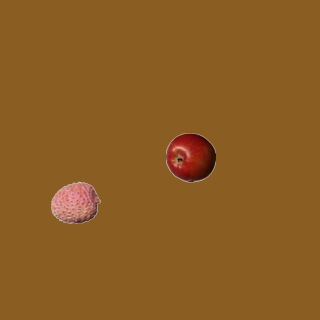Apple Braeburn: (165, 132, 215, 182)
Lychee: (50, 177, 100, 227)
